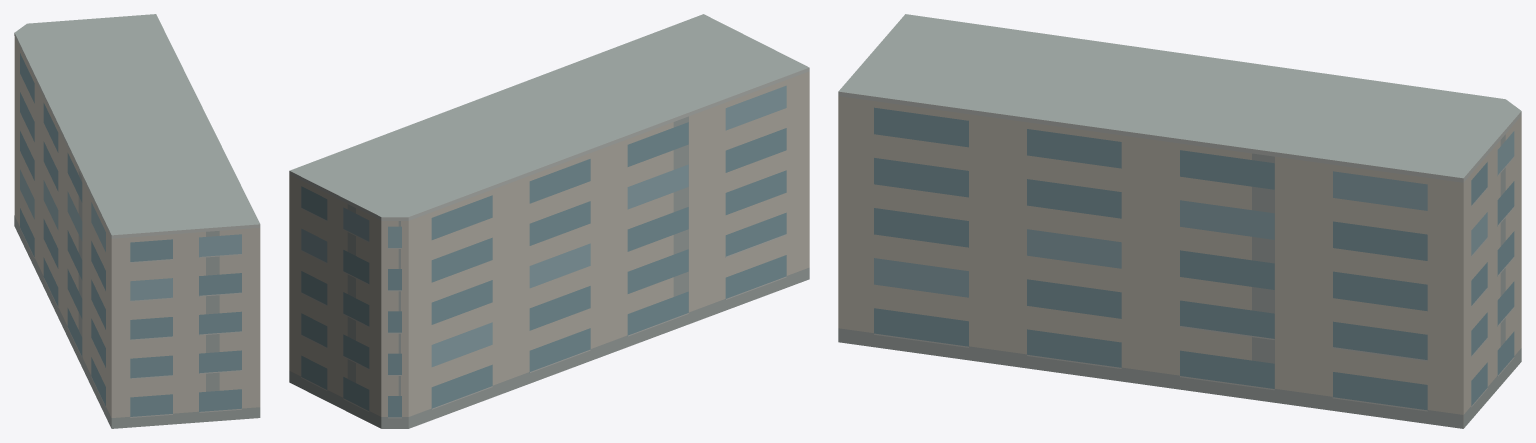
The model's file is survey-upis-32627730.glb.
3 renders of one model, left to right at view 1: azimuth 30°, elevation 25°; view 2: azimuth 150°, elevation 25°; view 3: azimuth 270°, elevation 25°, orthographic. The views are drawn at different scales.
Visible parts, largest first — view 1: survey-upis-32627730.tmp; view 2: survey-upis-32627730.tmp; view 3: survey-upis-32627730.tmp.
Boxes of the visible parts, box(x1,y1,x2,y2) form: survey-upis-32627730.tmp: box(14, 14, 260, 428); survey-upis-32627730.tmp: box(289, 14, 809, 428); survey-upis-32627730.tmp: box(838, 14, 1521, 428).
Bounding box in the file's own units: 19.13 × 13.6 × 33.62.
